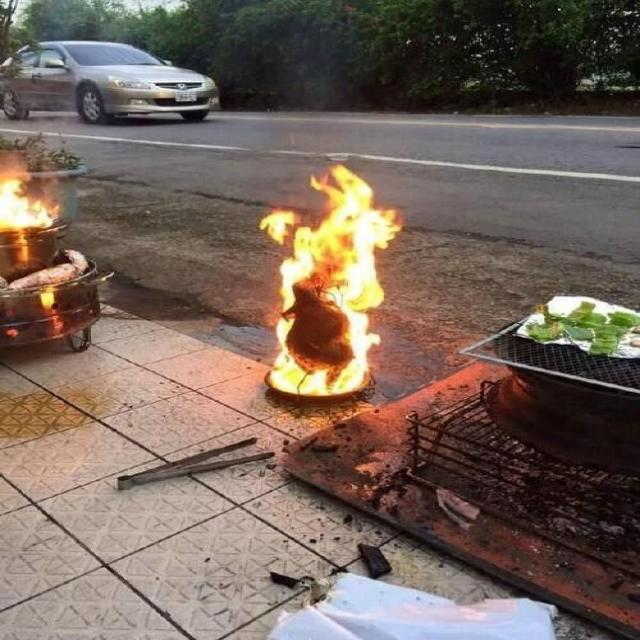fire: (221, 189, 421, 439), (0, 153, 122, 285)
